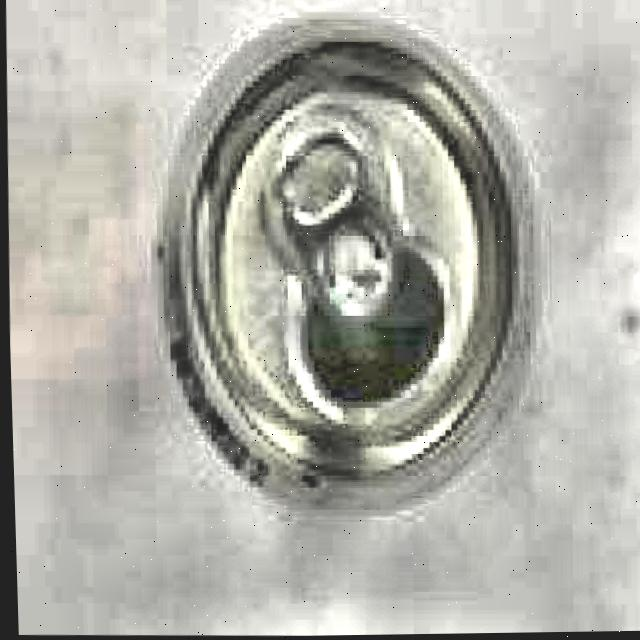metal: (149, 11, 542, 516)
